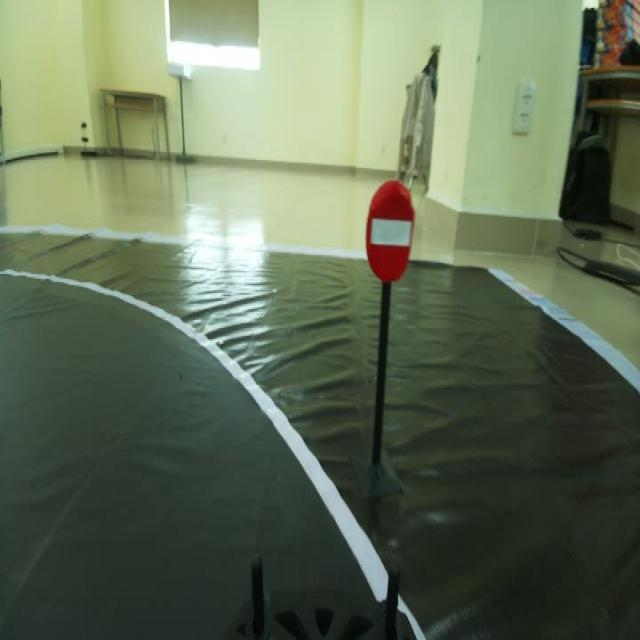no_entry: (366, 174, 414, 285)
